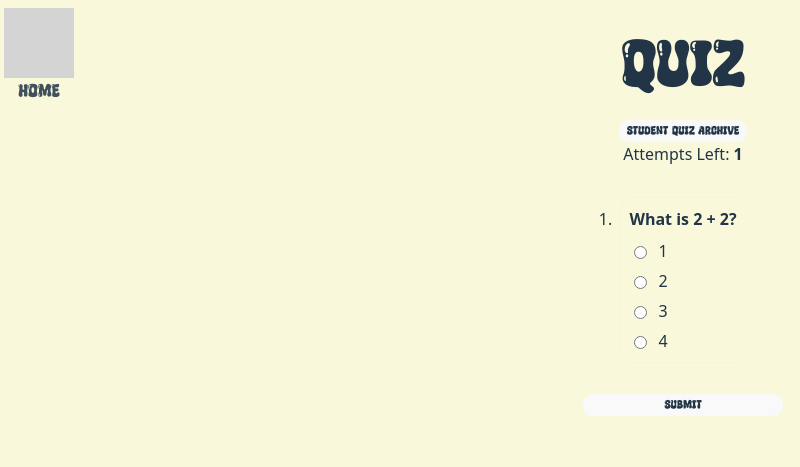
Test case: Quiz page › can select an answer and submit successfully
Click the radio button labelled "4": [641, 342] box [634,336,647,349]
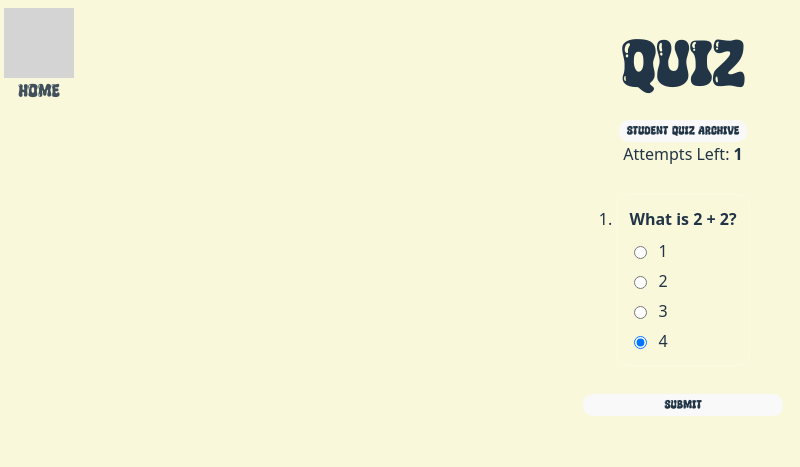
Click the button "Submit": [683, 405] box [583,394,783,416]
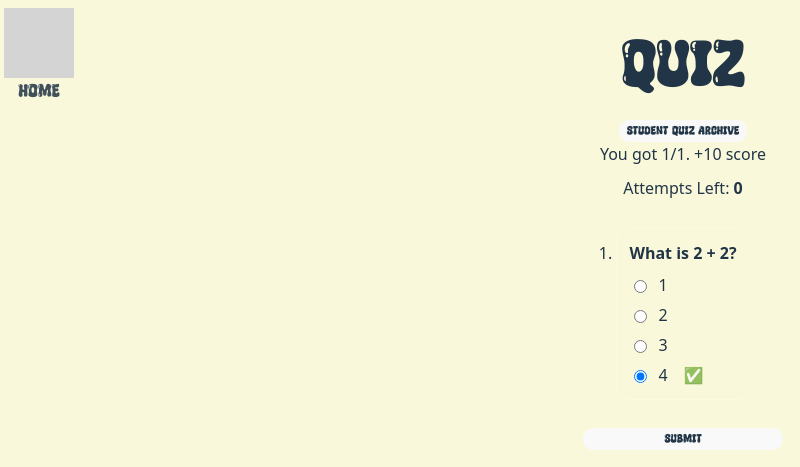
Result: the text "You got 1/1. +10 score" is shown at [600,142,766,166]
